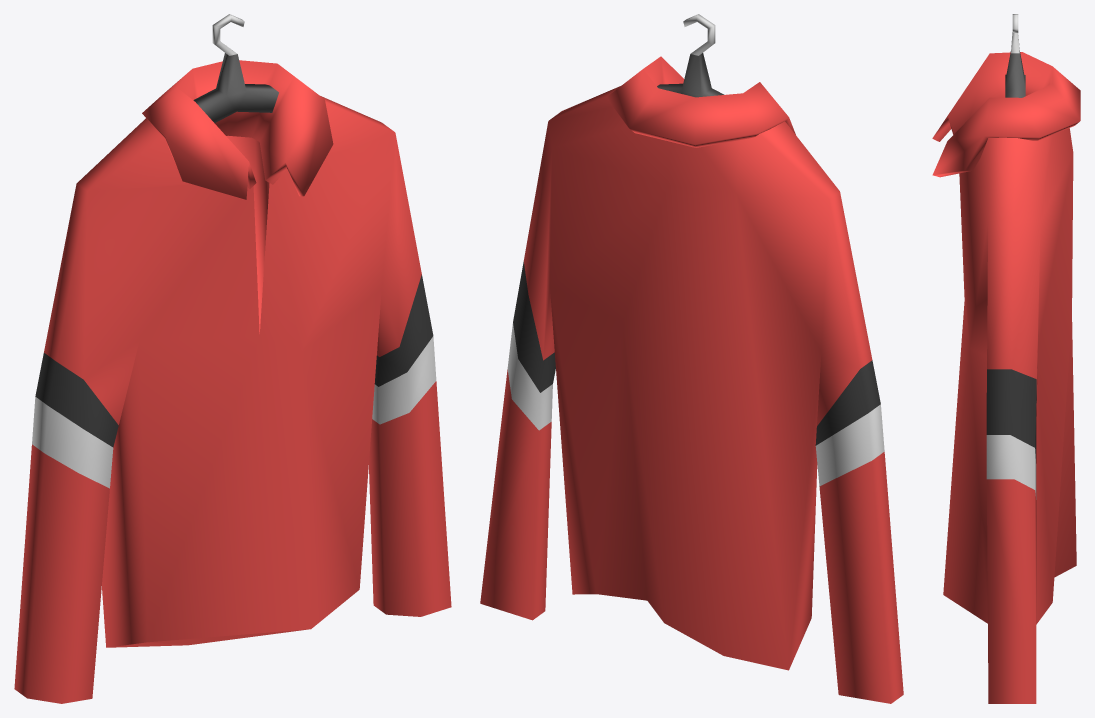
The model's file is clothes_006.glb.
The picture shows the model from 3 angles, left to right: view 1: azimuth 30°, elevation 25°; view 2: azimuth 150°, elevation 25°; view 3: azimuth 270°, elevation 25°; orthographic projection. The views are drawn at different scales.
Parts seen in each view (by area): view 1: clothes_006; view 2: clothes_006; view 3: clothes_006.
Part boxes in pixels (<box>): clothes_006: <box>14,14,451,703</box>; clothes_006: <box>480,14,903,703</box>; clothes_006: <box>932,14,1080,703</box>.
Bounding box in the file's own units: 0.6414 × 0.9466 × 0.2131.
Materials: 1 (1 with a texture image).
